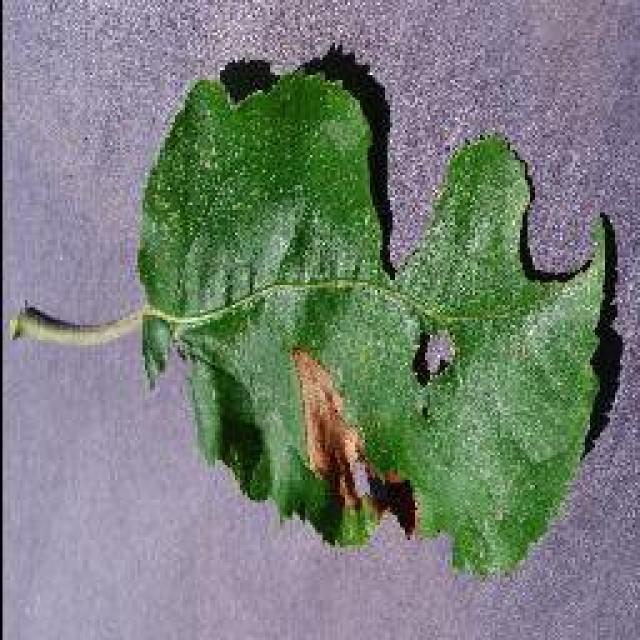Black_rot: (8, 42, 620, 578)
